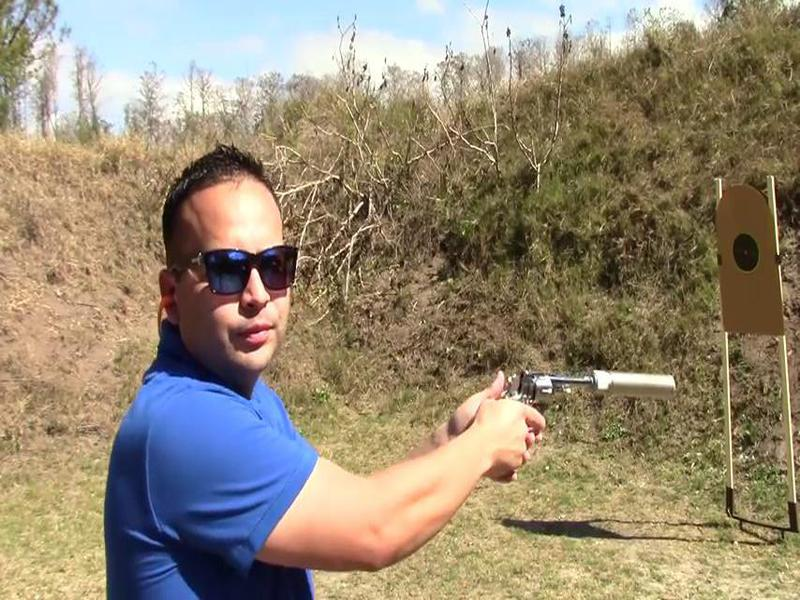Revolver: (497, 346, 610, 476)
